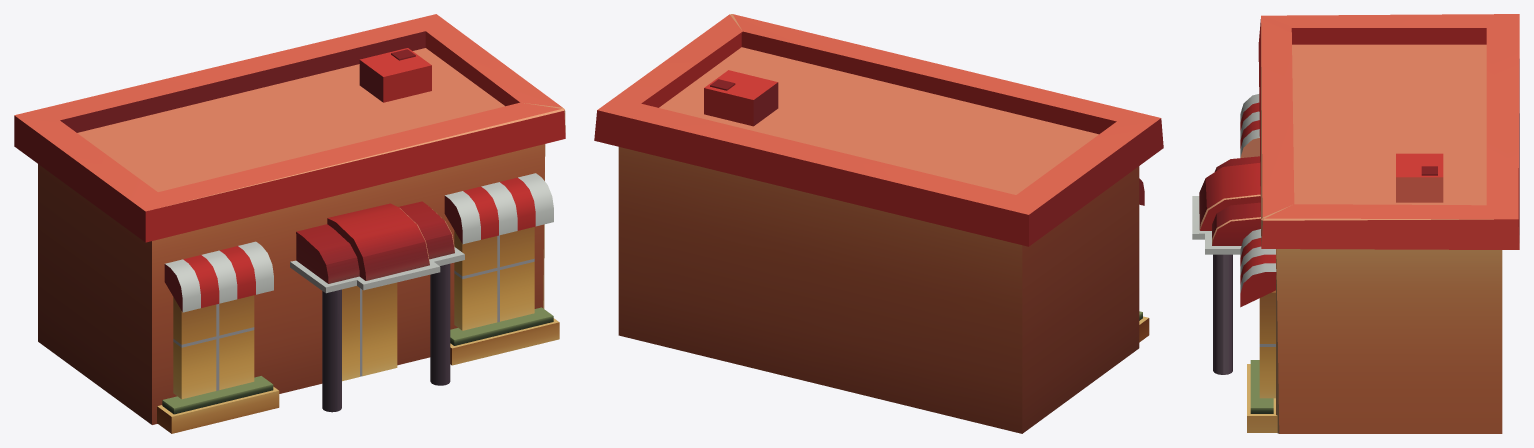
Rendered from SM_Building_11.fbx.
3 views of the same model, side by side, from view 1: azimuth 30°, elevation 25°; view 2: azimuth 150°, elevation 25°; view 3: azimuth 270°, elevation 25° (orthographic). The views are drawn at different scales.
Visible parts, largest first — view 1: SM_Building_11; view 2: SM_Building_11; view 3: SM_Building_11.
Part boxes in pixels (box(x1,y1,x2,y2)): SM_Building_11: box(14, 14, 565, 433); SM_Building_11: box(594, 14, 1163, 433); SM_Building_11: box(1192, 14, 1519, 433).
Bounding box in the file's own units: 1109 × 587 × 747.
